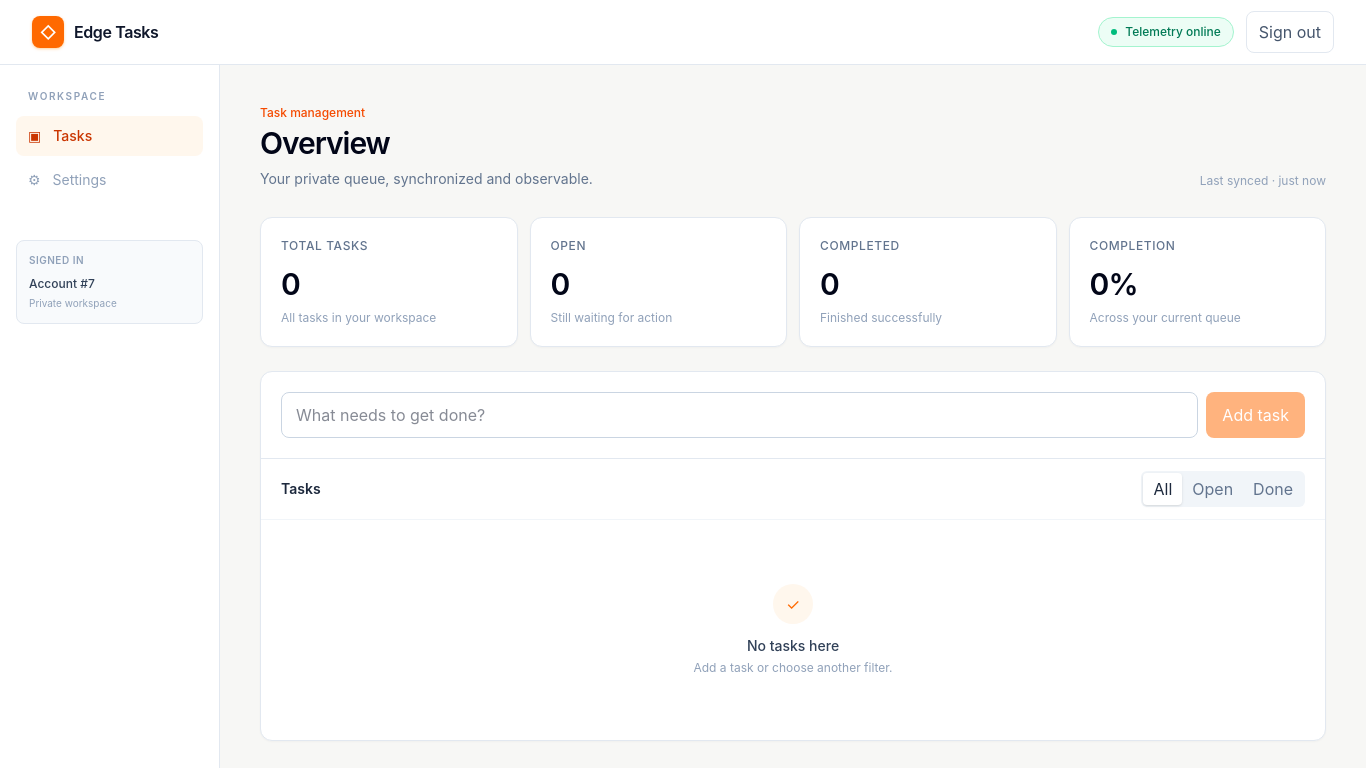
Test case: App › redirects to the login page after logout
Click the button "Sign out" at [1290, 32], box [1246, 11, 1334, 53]
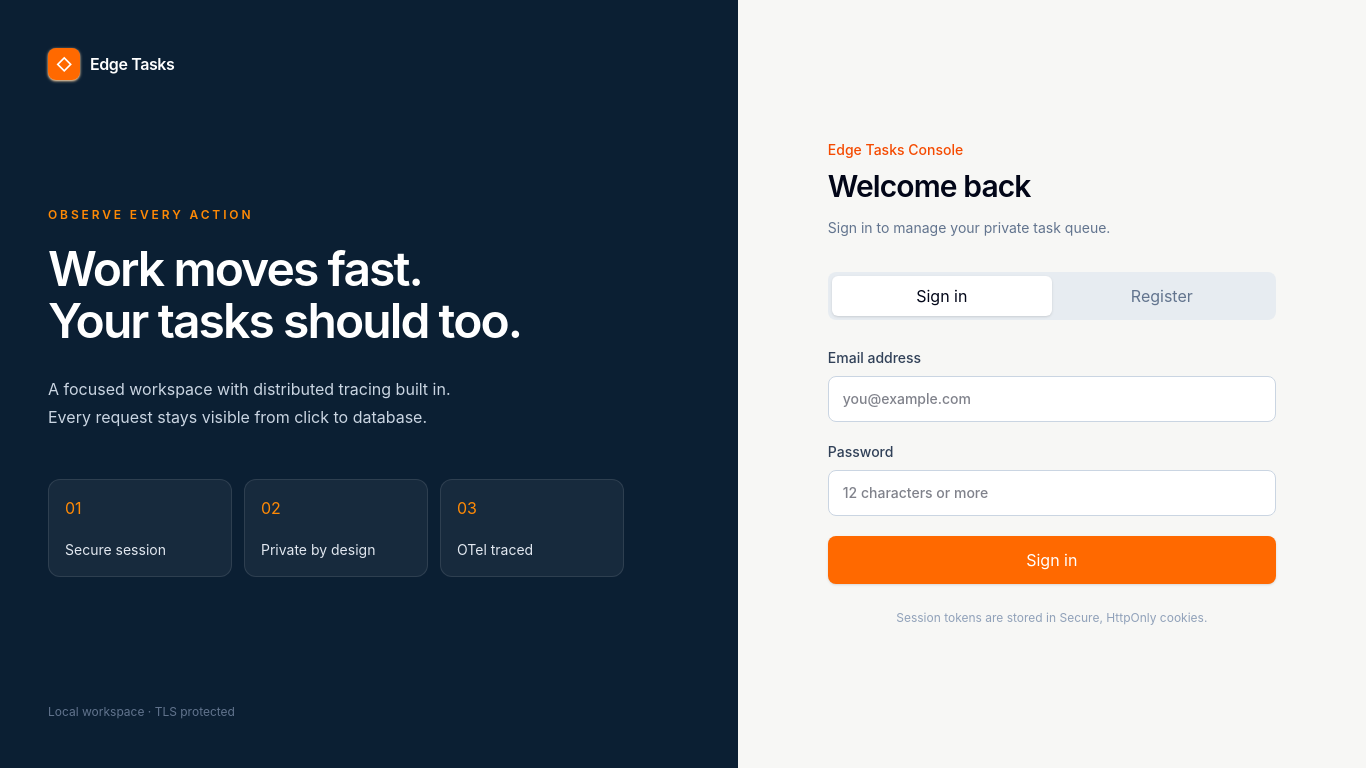
Now the heading "Welcome back" is shown, box [828, 168, 1030, 204]
